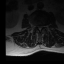CCS_normal: (39, 24, 41, 32)
LFS_severe_stenosis: (43, 24, 45, 29)
LLS_stenosis: (41, 24, 43, 29)
RFS_severe_stenosis: (35, 23, 37, 29)
RLS_stenosis: (37, 24, 39, 30)
